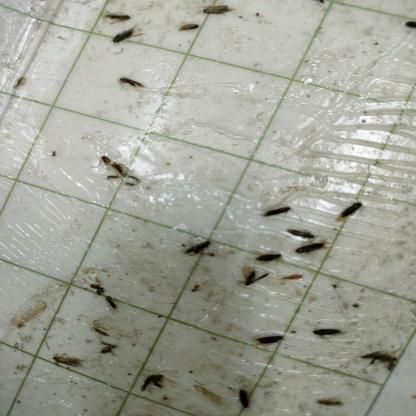prays_oleae: (359, 338, 401, 382), (179, 234, 211, 275), (97, 154, 127, 188), (252, 324, 283, 354), (251, 242, 284, 270), (293, 235, 329, 258), (48, 346, 82, 369), (204, 2, 236, 26), (142, 364, 168, 389), (334, 200, 360, 224), (314, 319, 340, 343), (112, 24, 139, 47), (100, 333, 121, 362), (119, 71, 144, 94), (260, 206, 291, 223), (285, 226, 315, 243), (177, 18, 201, 39), (92, 276, 105, 302), (92, 320, 108, 341), (104, 291, 117, 314), (104, 11, 130, 22)
